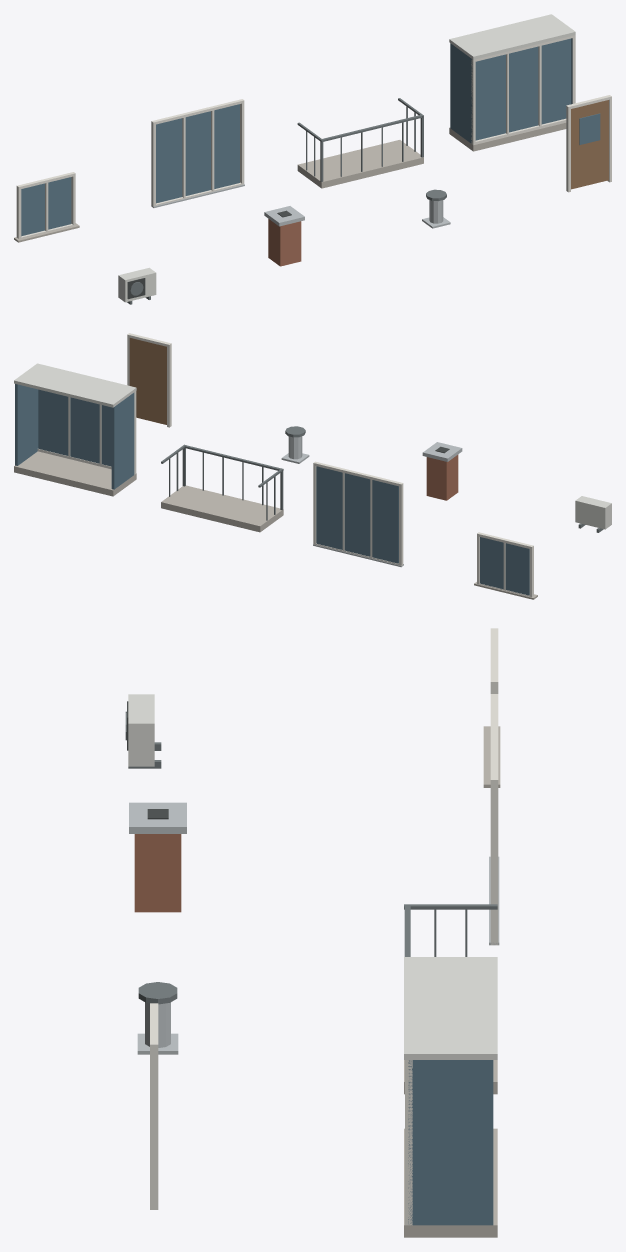
Rendered from gallery_lod1.gltf.
3 renders of one model, top to bottom at view 1: azimuth 30°, elevation 25°; view 2: azimuth 150°, elevation 25°; view 3: azimuth 270°, elevation 25°, orthographic. The views are drawn at different scales.
Visible parts, largest first — view 1: glazed_balcony_v2_lod1, sliding_door_v2_lod1, open_balcony_v2_lod1, entrance_door_v2_lod1, casement_window_v2_lod1, chimney_v2_lod1, ac_unit_v2_lod1, roof_vent_v2_lod1; view 2: glazed_balcony_v2_lod1, sliding_door_v2_lod1, open_balcony_v2_lod1, entrance_door_v2_lod1, casement_window_v2_lod1, chimney_v2_lod1, ac_unit_v2_lod1, roof_vent_v2_lod1; view 3: glazed_balcony_v2_lod1, chimney_v2_lod1, sliding_door_v2_lod1, ac_unit_v2_lod1, roof_vent_v2_lod1, entrance_door_v2_lod1, open_balcony_v2_lod1, casement_window_v2_lod1.
Part boxes in pixels (<box>): glazed_balcony_v2_lod1: <box>449,14,575,151</box>; sliding_door_v2_lod1: <box>151,99,244,207</box>; open_balcony_v2_lod1: <box>297,98,423,188</box>; entrance_door_v2_lod1: <box>566,95,611,192</box>; casement_window_v2_lod1: <box>14,172,79,242</box>; chimney_v2_lod1: <box>264,206,304,266</box>; ac_unit_v2_lod1: <box>118,267,156,304</box>; roof_vent_v2_lod1: <box>422,189,450,228</box>; glazed_balcony_v2_lod1: <box>14,363,136,496</box>; sliding_door_v2_lod1: <box>313,461,403,567</box>; open_balcony_v2_lod1: <box>161,444,283,532</box>; entrance_door_v2_lod1: <box>127,333,171,427</box>; casement_window_v2_lod1: <box>474,532,537,599</box>; chimney_v2_lod1: <box>422,442,462,500</box>; ac_unit_v2_lod1: <box>575,496,611,532</box>; roof_vent_v2_lod1: <box>281,426,309,463</box>; glazed_balcony_v2_lod1: <box>404,957,497,1237</box>; chimney_v2_lod1: <box>129,802,186,912</box>; sliding_door_v2_lod1: <box>489,694,499,945</box>; ac_unit_v2_lod1: <box>125,694,161,768</box>; roof_vent_v2_lod1: <box>137,982,178,1054</box>; entrance_door_v2_lod1: <box>150,1003,158,1209</box>; open_balcony_v2_lod1: <box>404,904,497,1094</box>; casement_window_v2_lod1: <box>483,628,500,787</box>.
Size of the model in its own units: 14.16 by 2.39 by 4.42.
